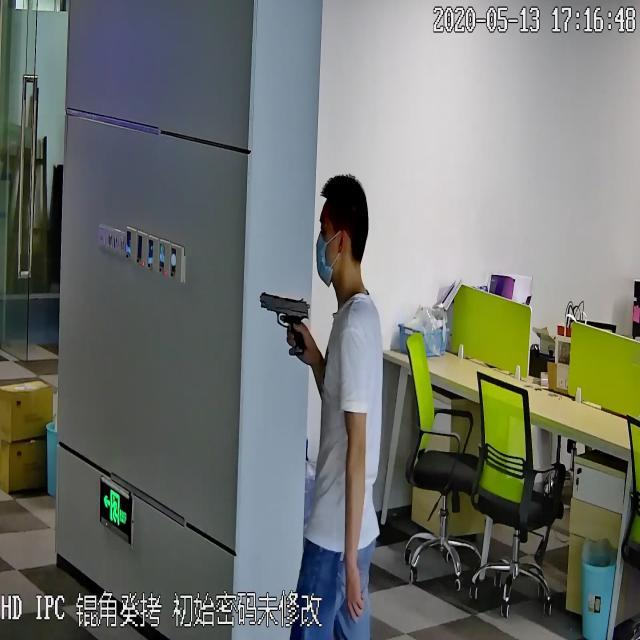gun-knife-thesis - v11 Yolov5 augmented: (257, 284, 314, 359)
